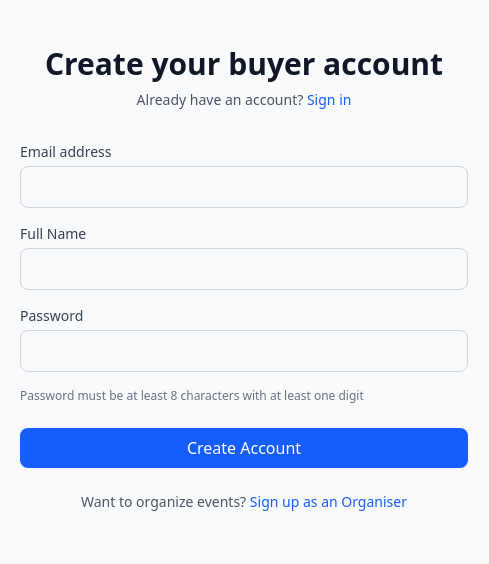
BuyerRegistrationView › shows required field errors when the form is submitted empty
Step 1. Click the button "Create Account" → point(244, 448), box [20,428,468,468]
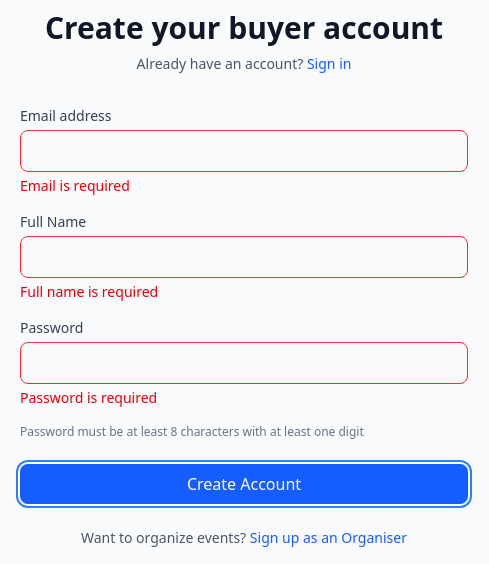
Check: the text "Email is required" is shown, box [20,176,130,195]
Check: the text "Full name is required" is shown, box [20,282,158,301]
Check: the text "Password is required" is shown, box [20,388,157,407]
